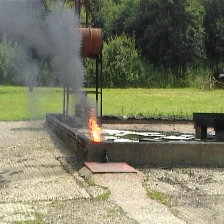fire_h: (89, 107, 102, 143)
